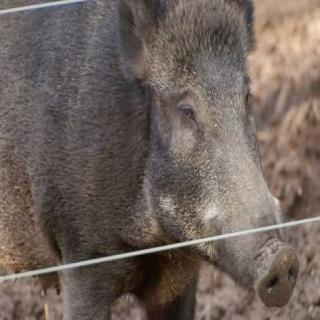Pig: (5, 0, 320, 312)
